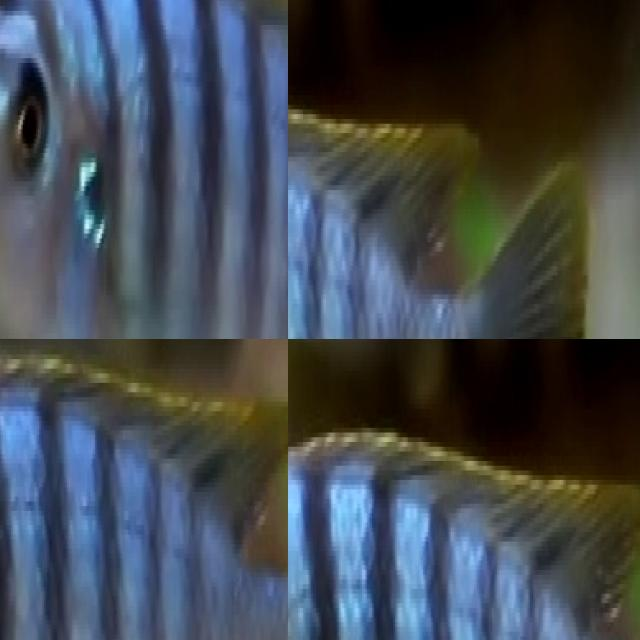fish: (0, 0, 288, 339), (0, 340, 288, 640), (288, 76, 591, 339), (288, 418, 640, 640)
